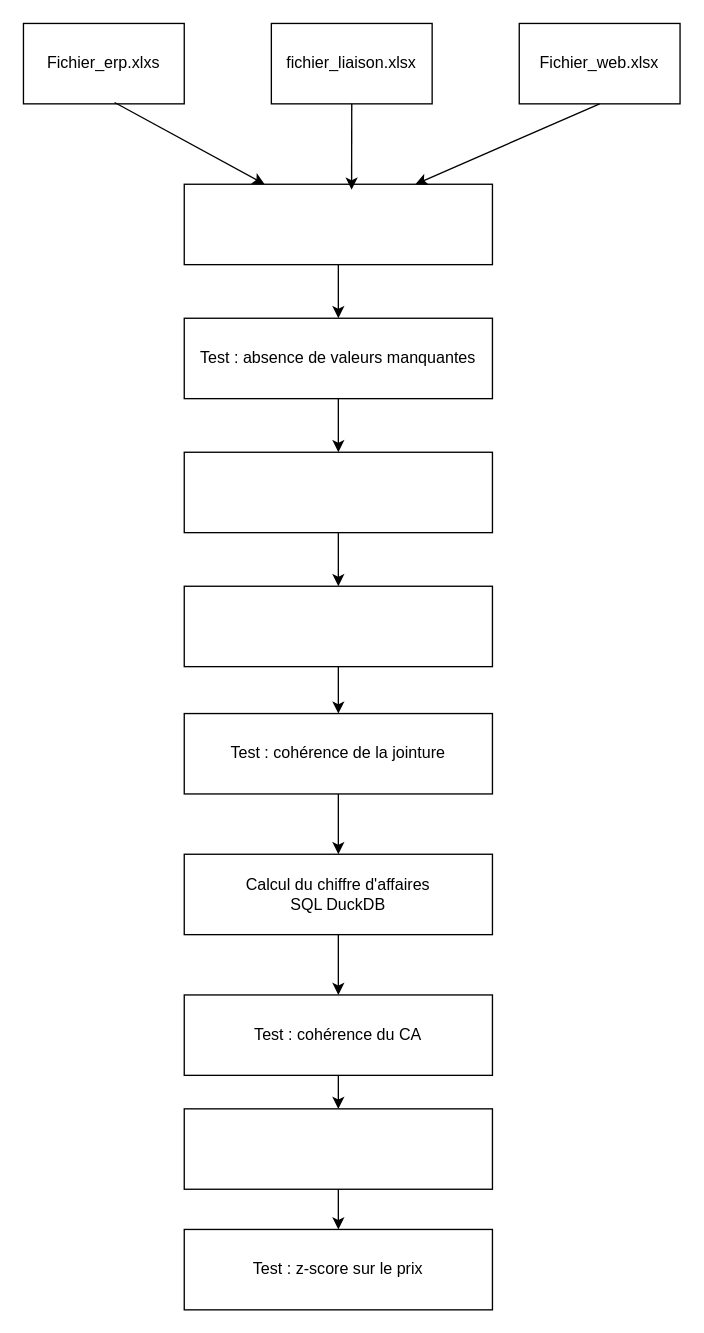
Image size: 704x1333. Some labels were removed from this diagram. The shapes that lost their labels are listed below. From the top down, each one's centre as x and y in pixels, then its label:
At point 337,224: "Nettoyage des valeurs manquantes SQL DuckDB".
At point 337,492: "Dédoublonnage SQL DuckDB".
At point 337,626: "Fusion ERP + liaison + Web SQL DuckDB".
At point 337,1148: "Calcul du z-score Python / pandas".
